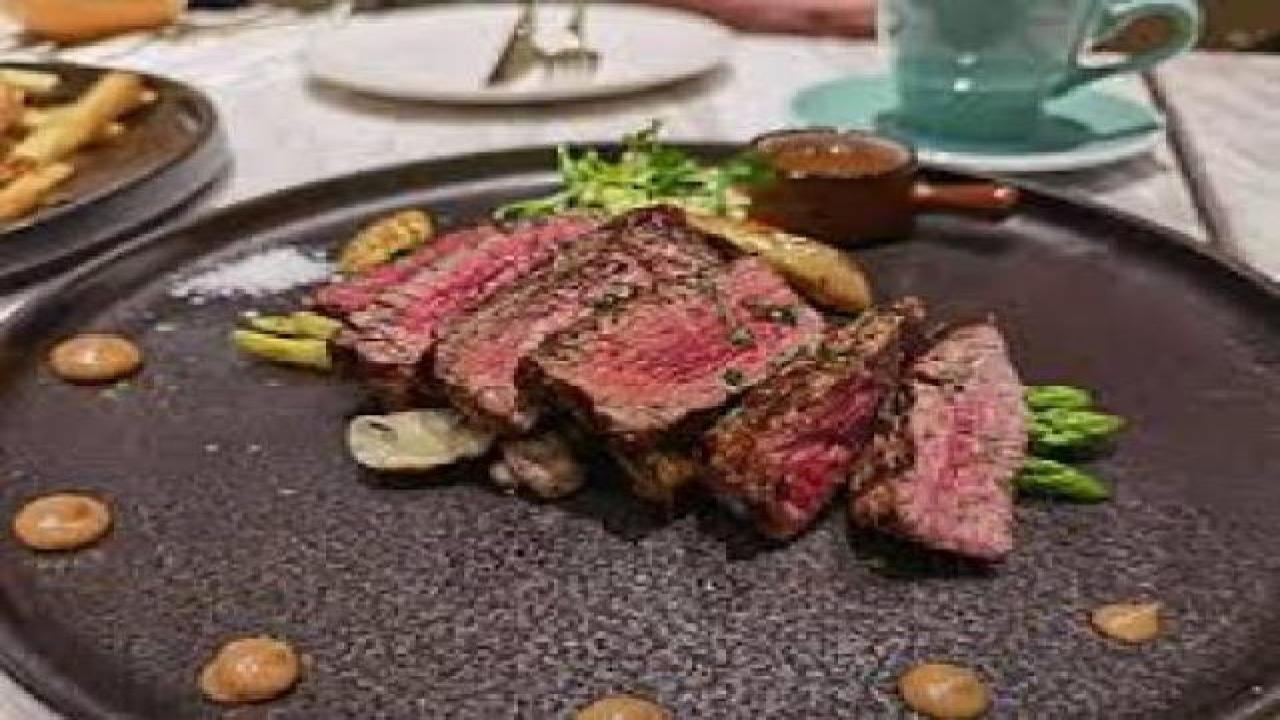Carne: (340, 227, 1074, 522)
